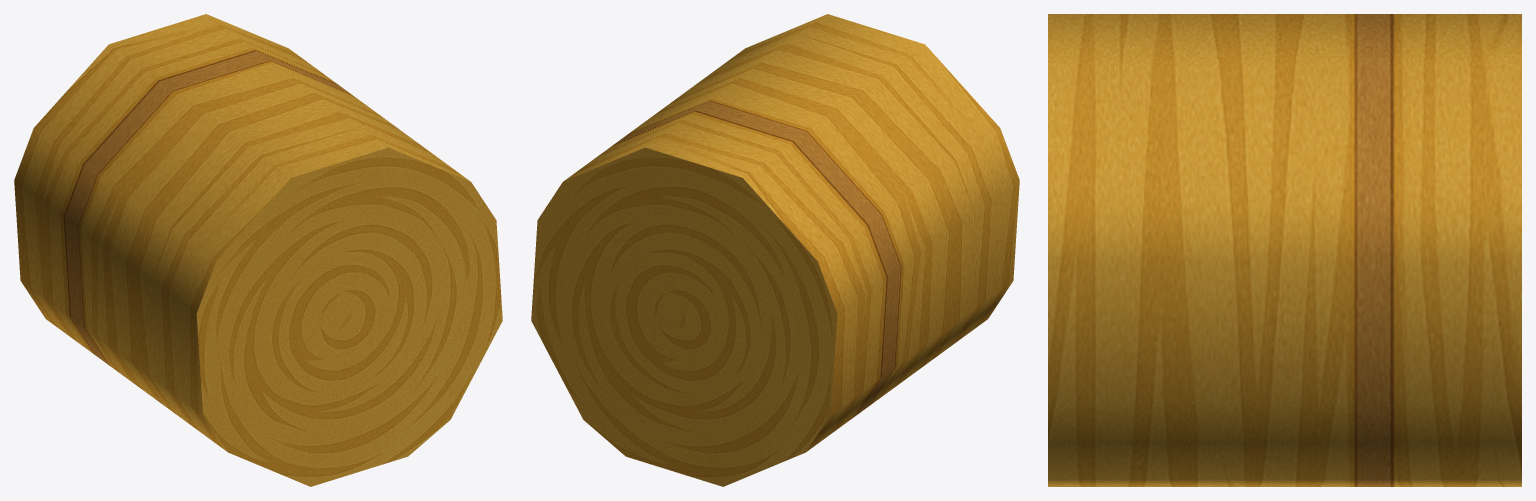
Rendered from seno.fbx.
3 views of the same model, side by side, from view 1: azimuth 30°, elevation 25°; view 2: azimuth 150°, elevation 25°; view 3: azimuth 270°, elevation 25° (orthographic). The views are drawn at different scales.
Parts seen in each view (by area): view 1: seno; view 2: seno; view 3: seno.
Boxes of the visible parts, <box> form: seno: <box>14,14,502,486</box>; seno: <box>531,14,1019,486</box>; seno: <box>1048,14,1521,486</box>.
Bounding box in the file's own units: 156 × 156 × 161.
Materials: 1 (1 with a texture image).
